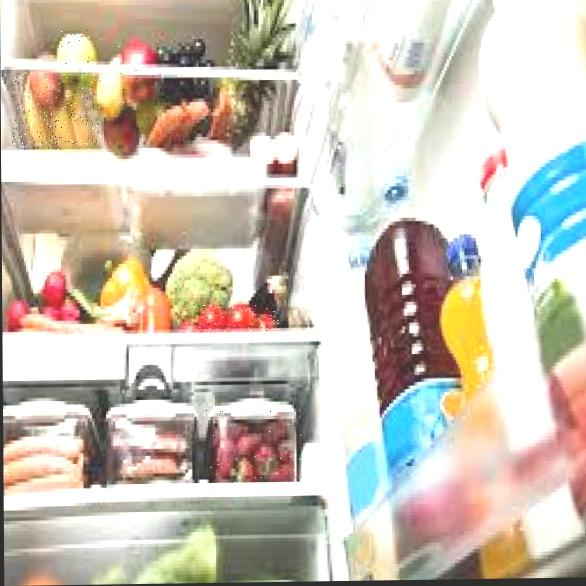apple: (117, 40, 162, 103), (61, 30, 90, 83)
banana: (11, 72, 102, 151)
strawberry: (204, 408, 304, 483)
tomatoes: (177, 303, 279, 333)
